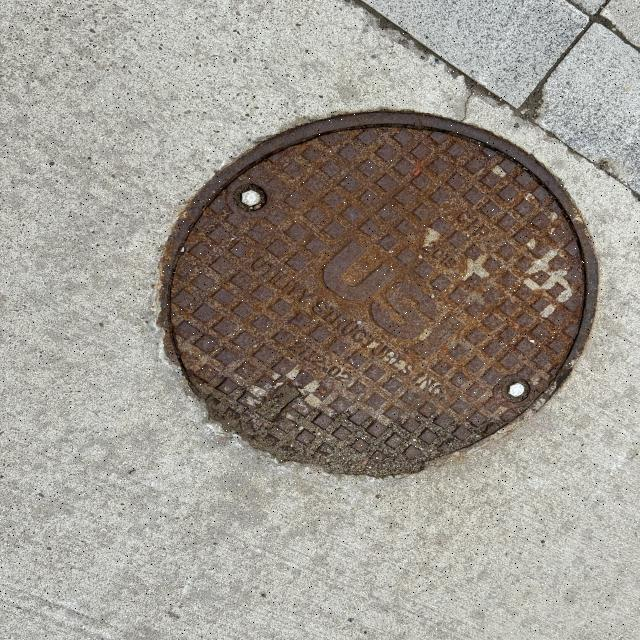Manhole: (163, 106, 602, 476)
